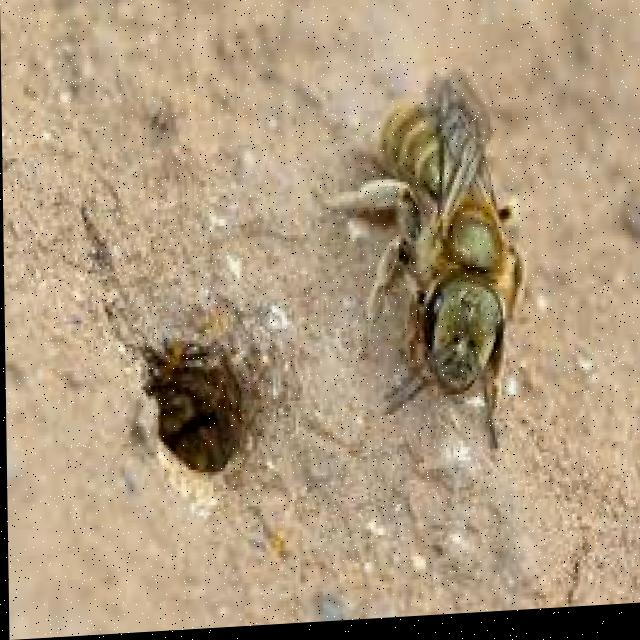Seladonia: (334, 21, 536, 452)
